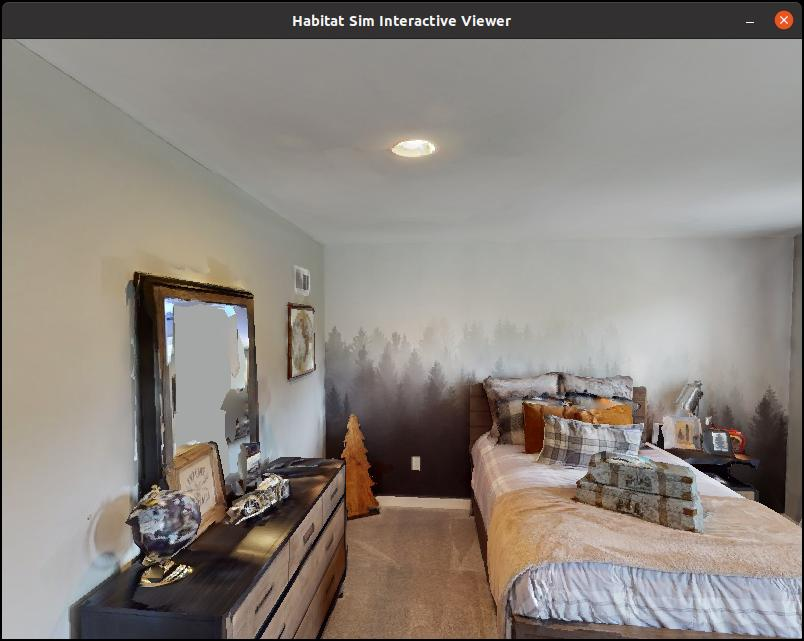bed: (453, 365, 804, 641)
table: (71, 449, 354, 641)
